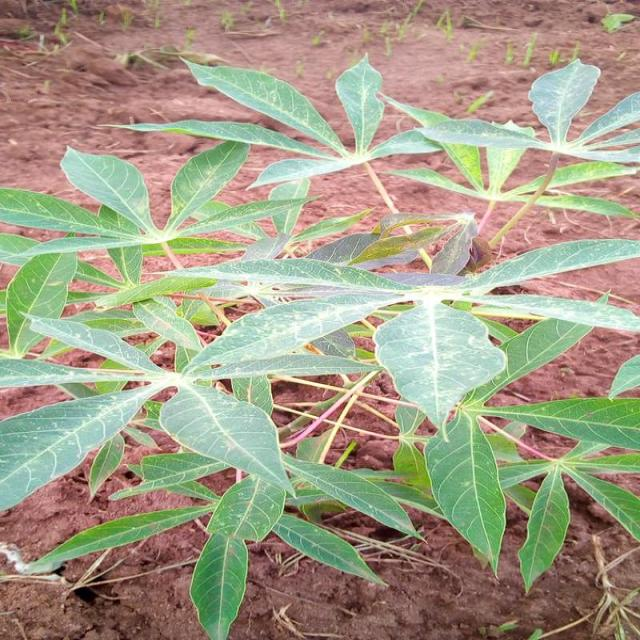cassava leaf: (1, 49, 638, 637), (372, 299, 506, 432), (422, 408, 507, 580)
